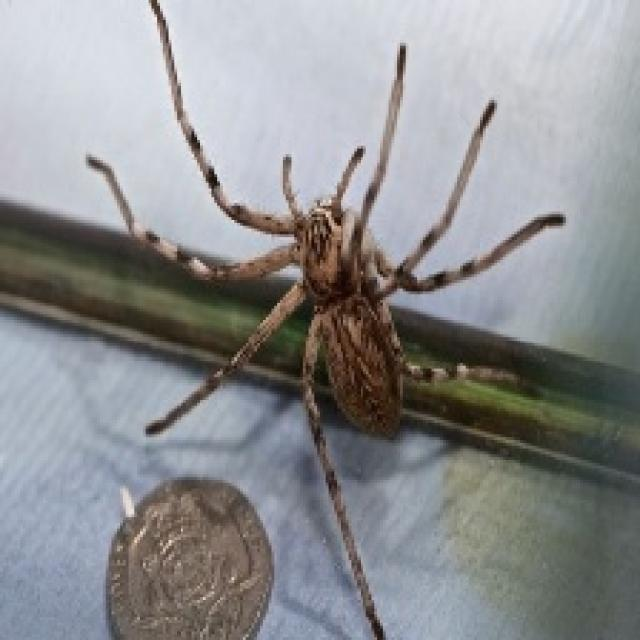Venomous spider: (83, 26, 587, 623)
